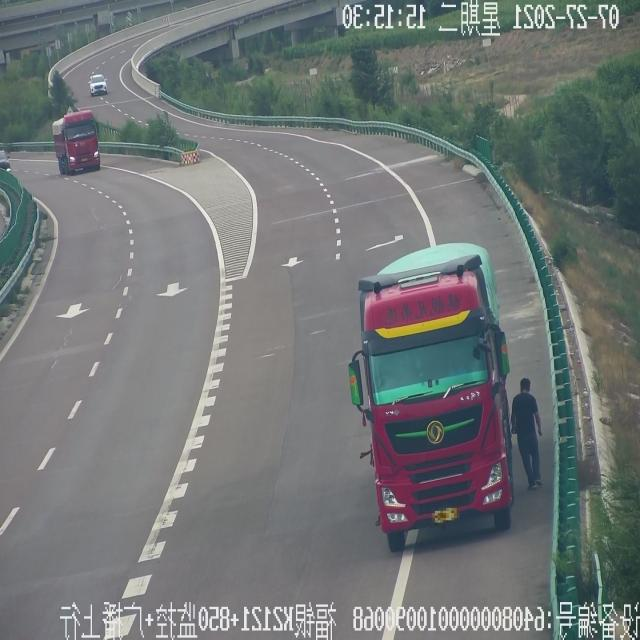point: (106, 3, 195, 91), (0, 119, 48, 201)
